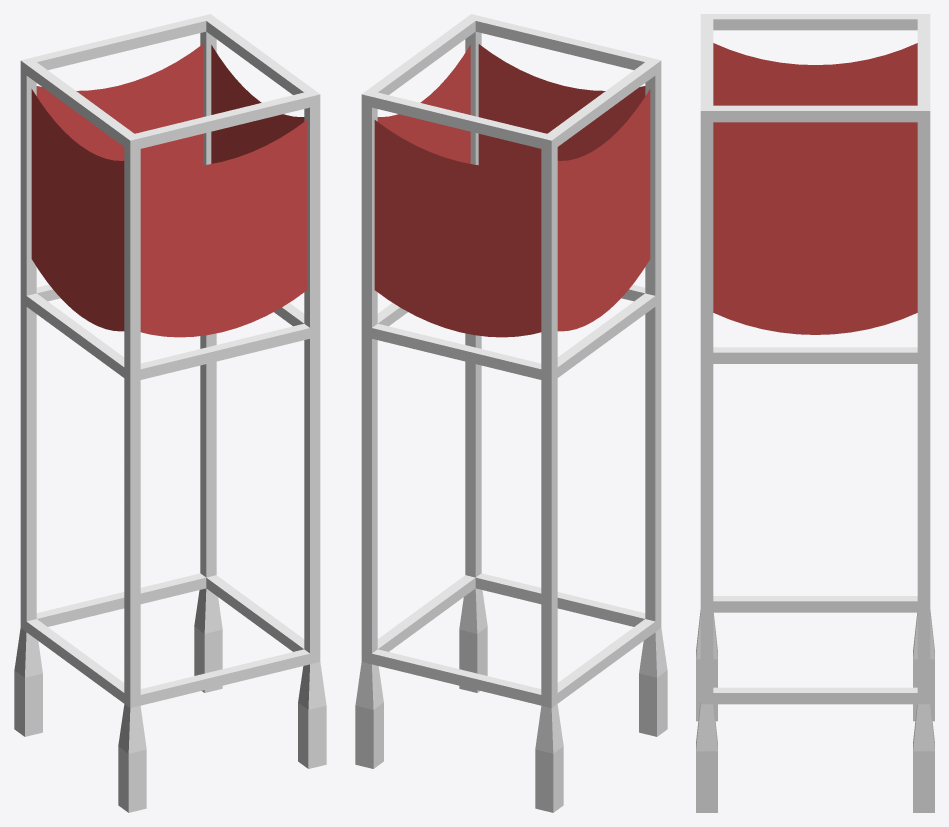
The model's file is banner-tower-red.glb.
3 renders of one model, left to right at view 1: azimuth 30°, elevation 25°; view 2: azimuth 150°, elevation 25°; view 3: azimuth 270°, elevation 25°, orthographic. The views are drawn at different scales.
Visible parts, largest first — view 1: bannerTowerRed(Clone); view 2: bannerTowerRed(Clone); view 3: bannerTowerRed(Clone).
Part boxes in pixels (left/top/right/bottom): bannerTowerRed(Clone): left=14, top=14, right=326, bottom=812; bannerTowerRed(Clone): left=355, top=14, right=667, bottom=812; bannerTowerRed(Clone): left=696, top=14, right=934, bottom=812.
Size of the model in its own units: 0.3852 by 1.25 by 0.3852.
